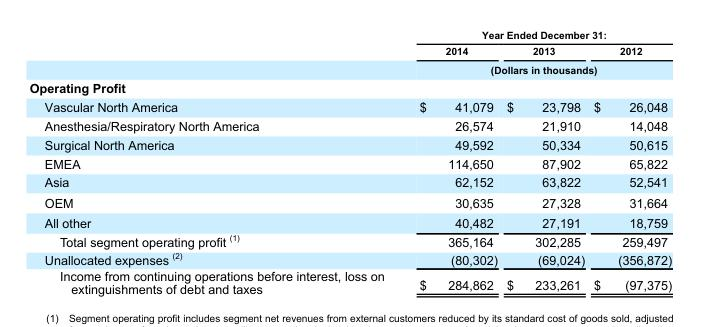table: (28, 28, 671, 295)
table column: (28, 28, 401, 295), (401, 28, 501, 295), (501, 28, 588, 295), (588, 28, 671, 295)
table column header: (28, 28, 671, 77)
table projected row header: (28, 77, 671, 96)
table row: (28, 267, 671, 295), (28, 172, 671, 192), (28, 192, 671, 212), (28, 77, 671, 96), (28, 96, 671, 115), (28, 115, 671, 134), (28, 134, 671, 153), (28, 153, 671, 172), (28, 230, 671, 249), (28, 42, 671, 60), (28, 212, 671, 230), (28, 249, 671, 267), (28, 60, 671, 77), (28, 28, 671, 42)
table spanning cell: (401, 60, 671, 77), (401, 28, 671, 42)
